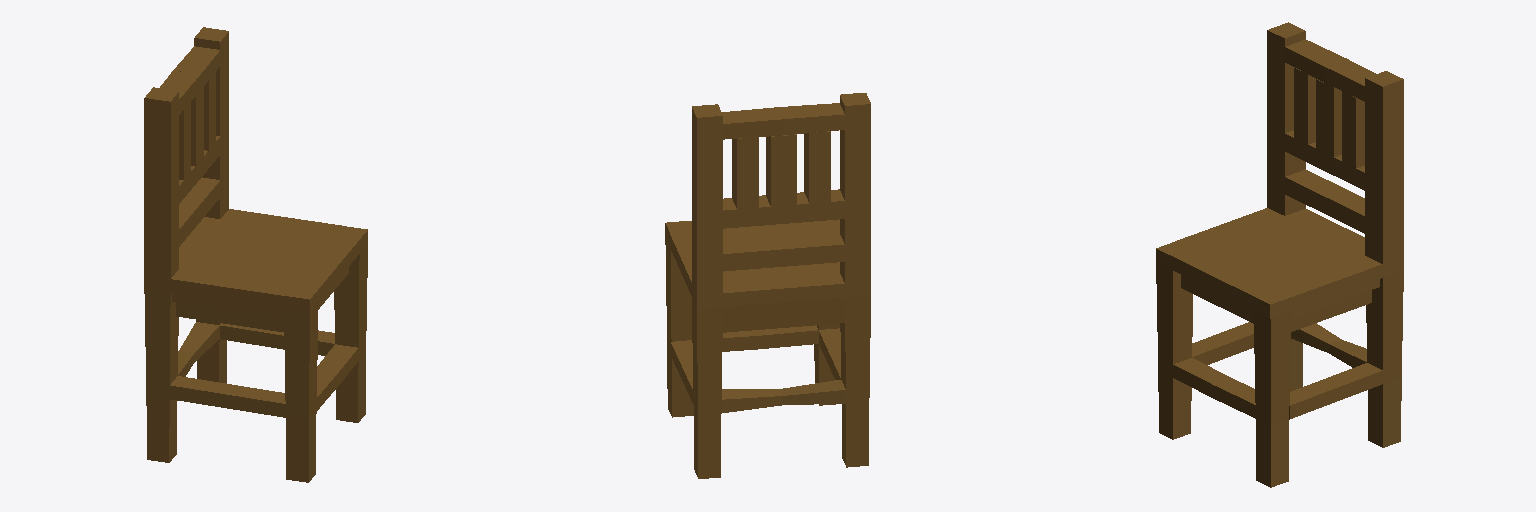
Rendered from chair_uv.obj.
3 renders of one model, left to right at view 1: azimuth 30°, elevation 25°; view 2: azimuth 150°, elevation 25°; view 3: azimuth 270°, elevation 25°, orthographic.
Parts seen in each view (by area): view 1: CHair; view 2: CHair; view 3: CHair.
Part boxes in pixels (x1,y1,x2,y2): CHair: (144,27,367,482); CHair: (665,93,870,478); CHair: (1156,22,1403,487).
Bounding box in the file's own units: 56.93 × 91.81 × 56.89.